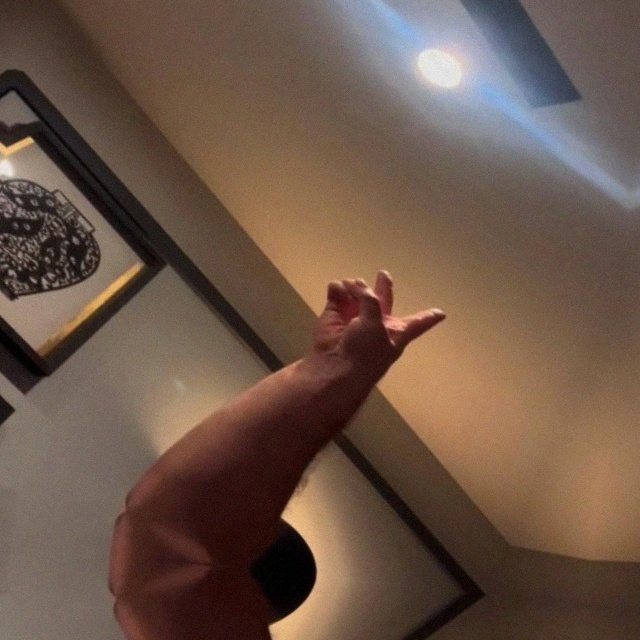Scissors: (297, 241, 459, 404)
